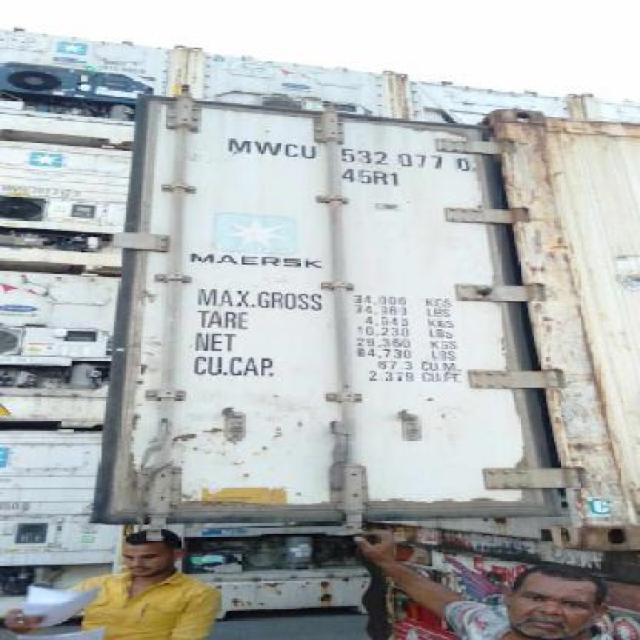ISO: (342, 167, 400, 186)
container_number: (230, 134, 470, 171)
